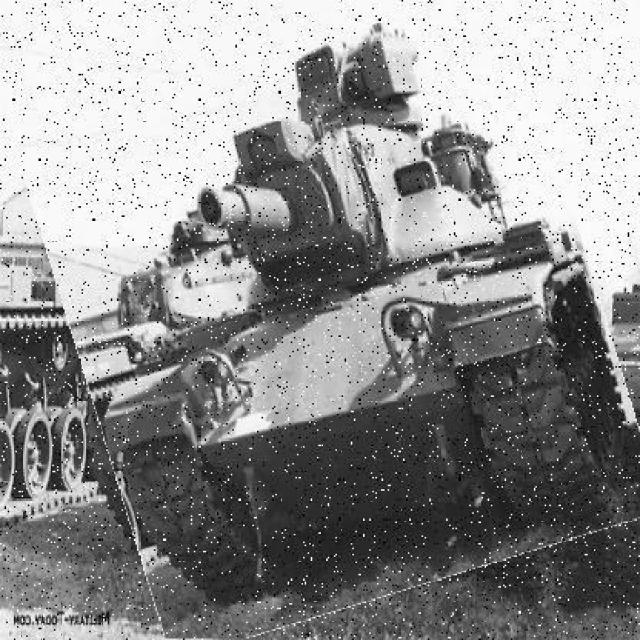Tank: (47, 18, 630, 629)
